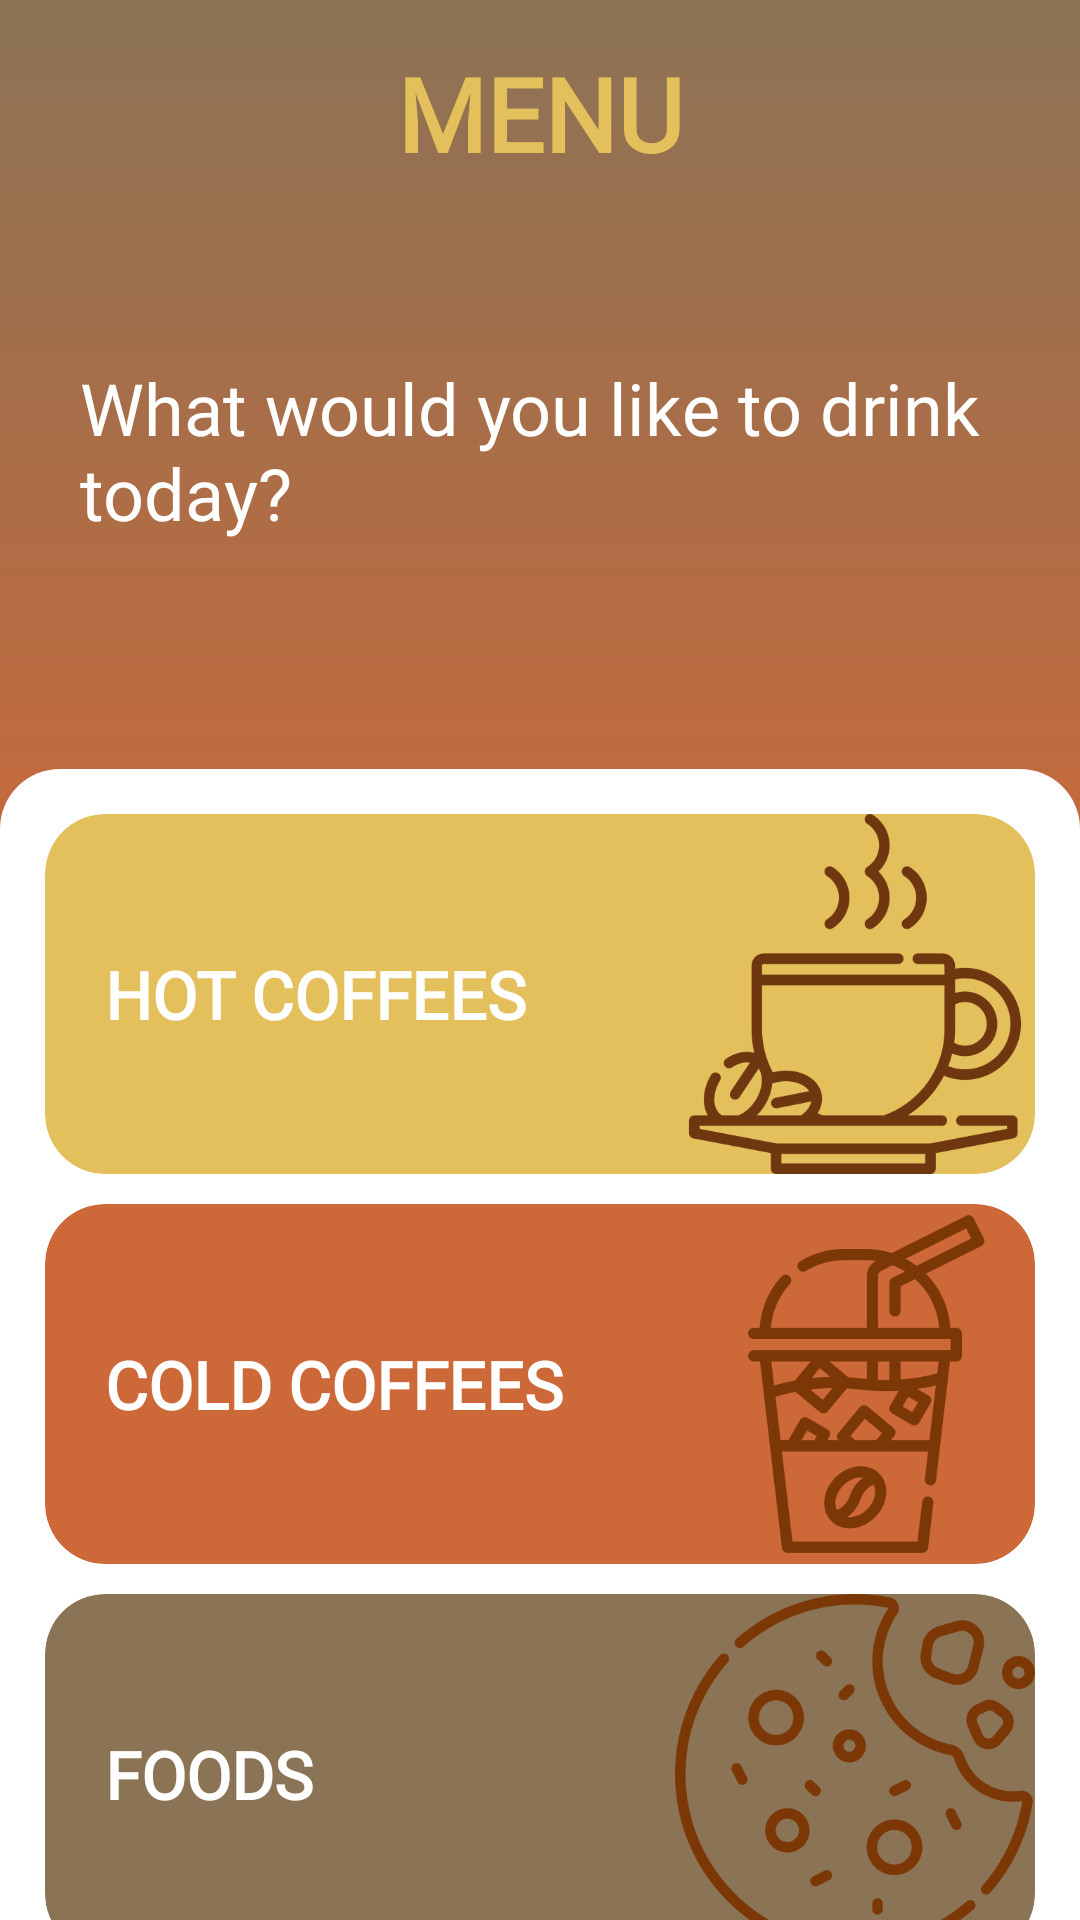

Icons on this 1080×1920 Android screen, each with the point to tap as [x,y]:
cookie: [855,1757]
